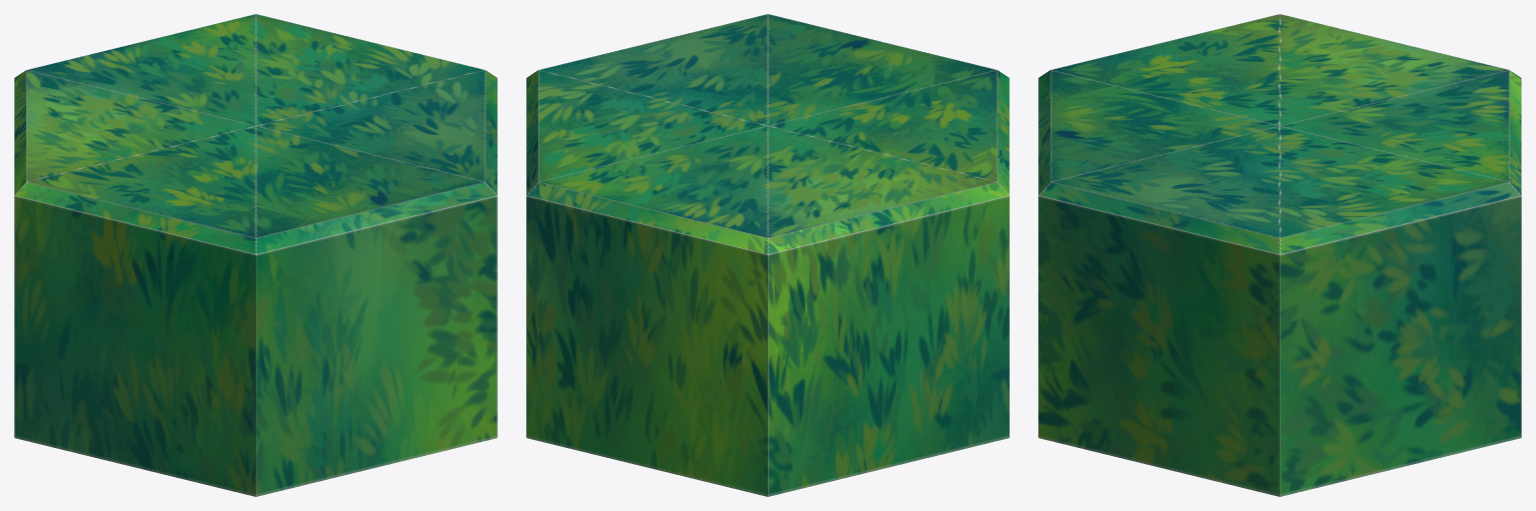
The model's file is funnietexturetest.fbx.
3 views of the same model, side by side, from view 1: azimuth 30°, elevation 25°; view 2: azimuth 150°, elevation 25°; view 3: azimuth 270°, elevation 25° (orthographic).
Parts seen in each view (by area): view 1: pCylinder1; view 2: pCylinder1; view 3: pCylinder1.
Boxes of the visible parts, x1,y1,x2,y2 form: pCylinder1: (14,14,497,496); pCylinder1: (526,14,1009,496); pCylinder1: (1038,14,1521,496).
Size of the model in its own units: 2 by 1 by 1.73.
